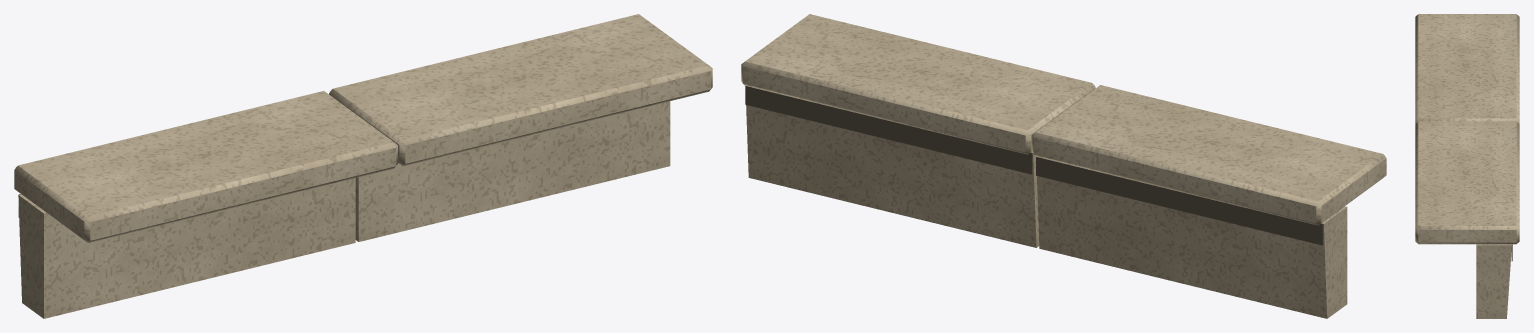
The model's file is water-coping-2m.lod1.glb.
The picture shows the model from 3 angles, left to right: view 1: azimuth 30°, elevation 25°; view 2: azimuth 150°, elevation 25°; view 3: azimuth 270°, elevation 25°; orthographic projection. The views are drawn at different scales.
Parts seen in each view (by area): view 1: water_coping_2m_Stone • warm limestone; view 2: water_coping_2m_Stone • warm limestone, water_coping_2m_Trim • places palette; view 3: water_coping_2m_Stone • warm limestone.
Boxes of the visible parts, <box> form: water_coping_2m_Stone • warm limestone: <box>14,14,712,318</box>; water_coping_2m_Stone • warm limestone: <box>741,14,1386,318</box>; water_coping_2m_Trim • places palette: <box>745,86,1323,245</box>; water_coping_2m_Stone • warm limestone: <box>1415,14,1519,318</box>.
Size of the model in its own units: 2 by 0.4 by 0.41.
2 materials, 2 textured.
